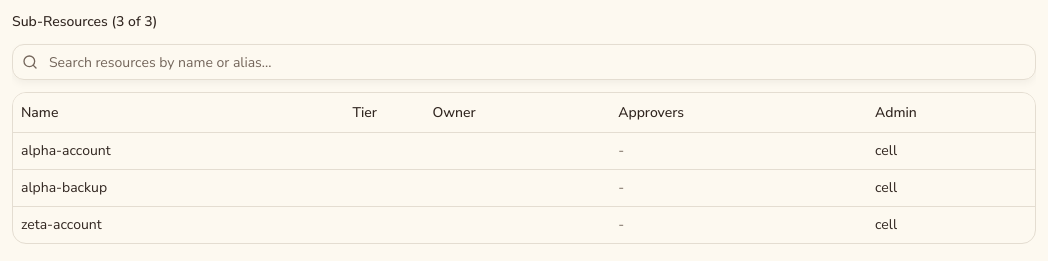
it: sub-resource rows are memoized › does not re-render a row when filtering leaves it on screen
Type "alpha" into the field with placeholder "Search resources by name or alias..." at (524, 62), box [12,44,1036,80]
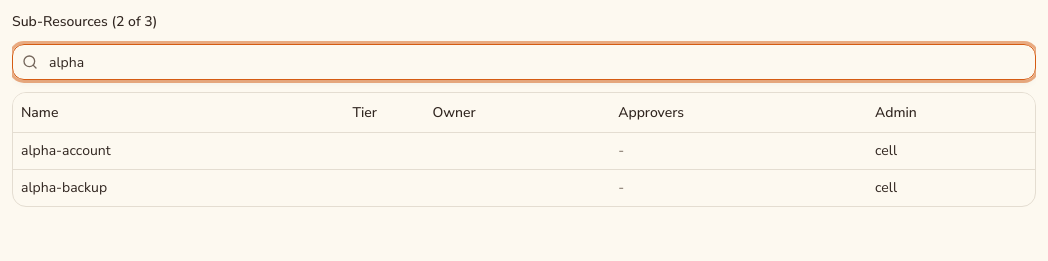
Expected: the link "alpha-account" is shown, [21,141,111,160]
Result: the link "zeta-account" is gone
